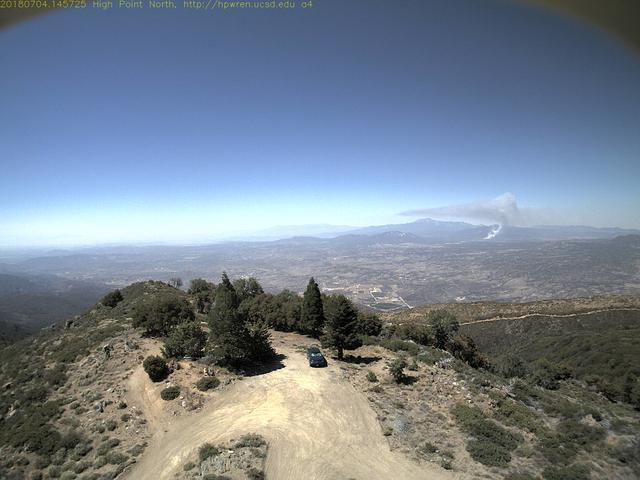Smoke: (393, 191, 537, 241)
